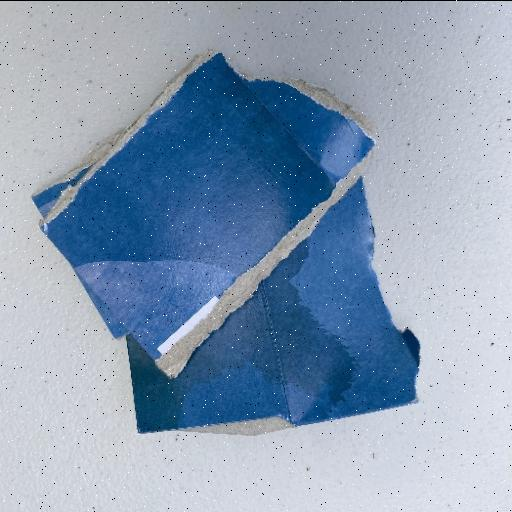Cardboard: (30, 49, 420, 437)
